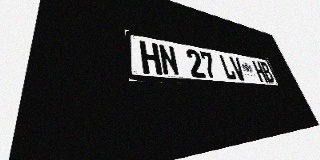2: (185, 49, 206, 78)
7: (199, 51, 219, 79)
B: (259, 62, 275, 83)
H: (139, 40, 163, 75), (251, 60, 268, 82)
L: (218, 54, 237, 80)
N: (158, 44, 180, 76)
V: (229, 56, 247, 81)
